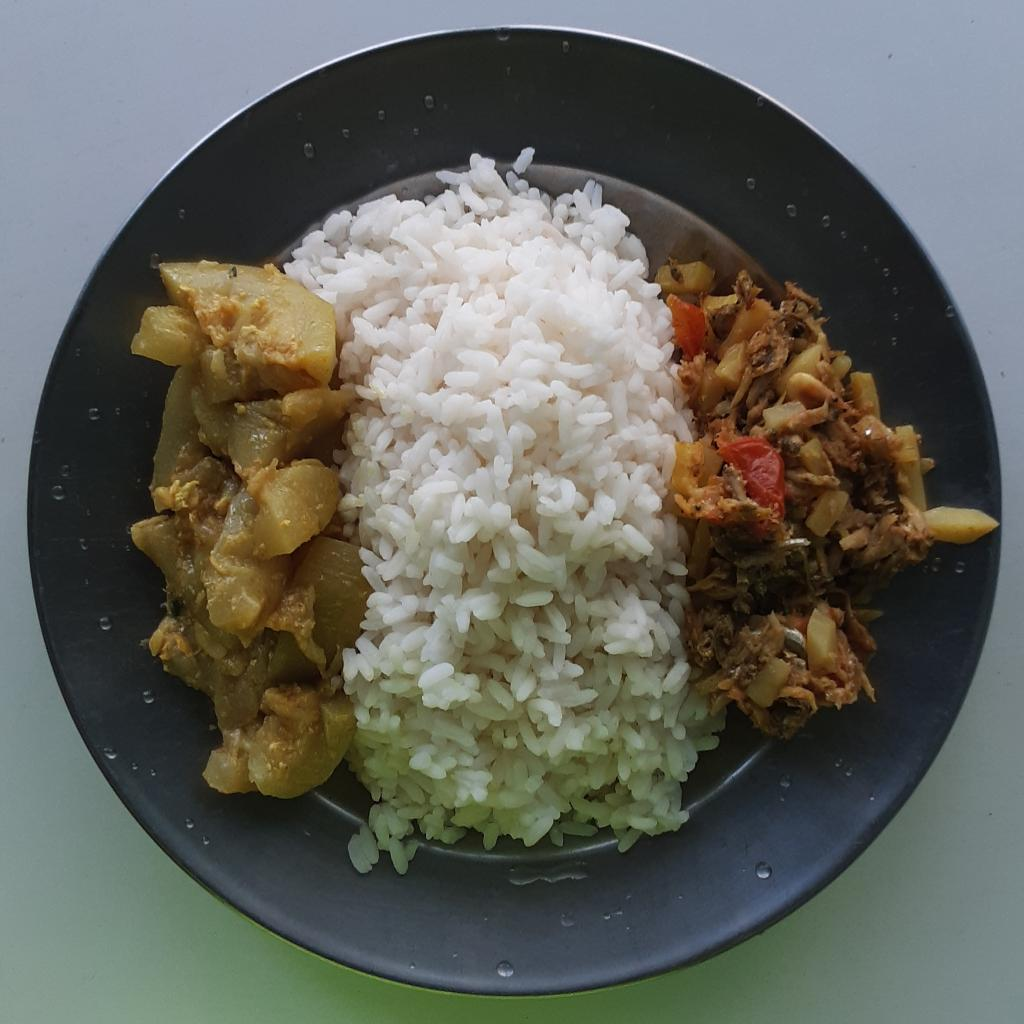korola-vaji: (657, 258, 999, 745)
lau: (125, 252, 364, 795)
rice: (281, 140, 731, 879)
